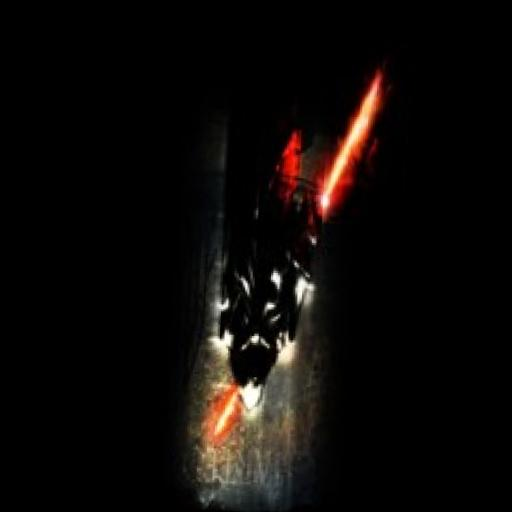sith saber: (305, 66, 391, 228)
